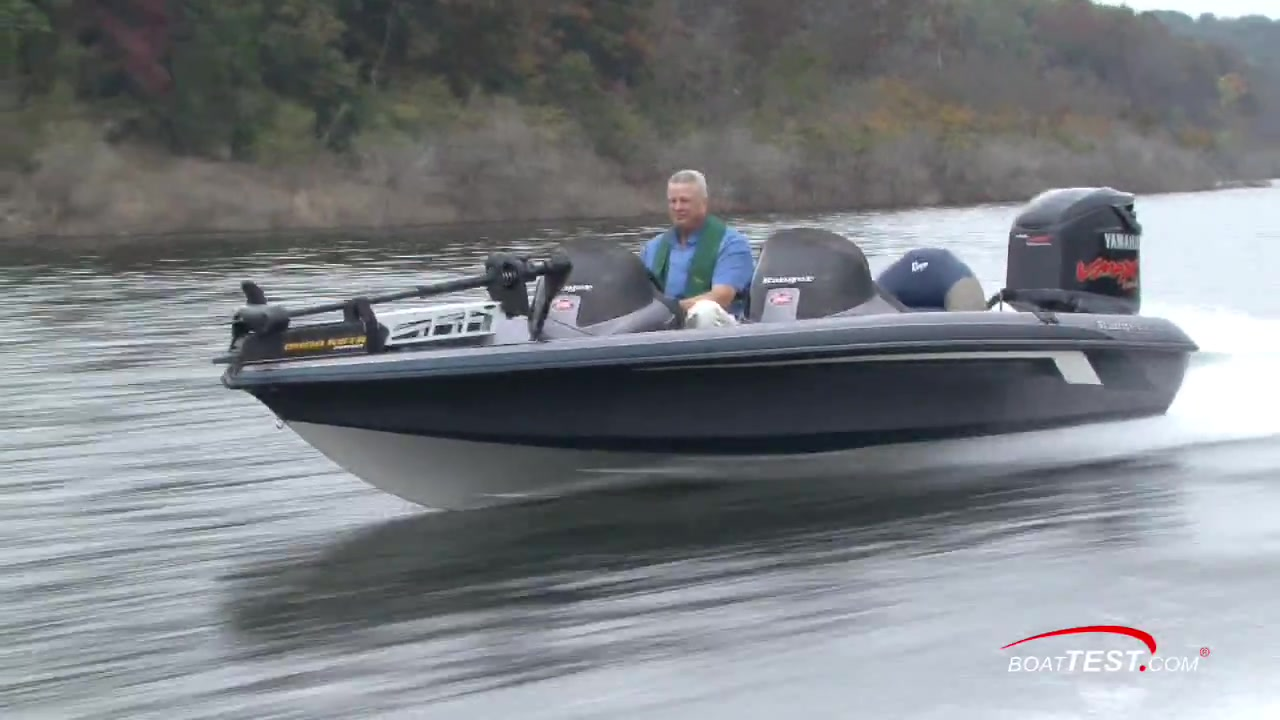boat: (220, 182, 1202, 524)
